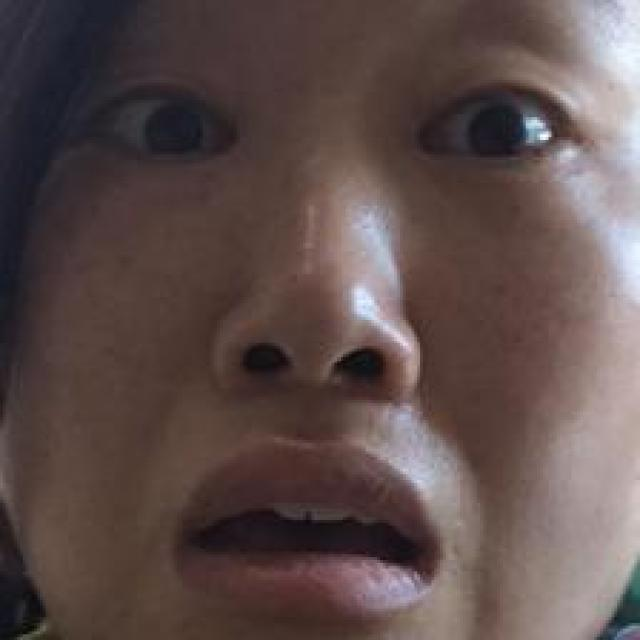fear: (40, 34, 594, 640)
